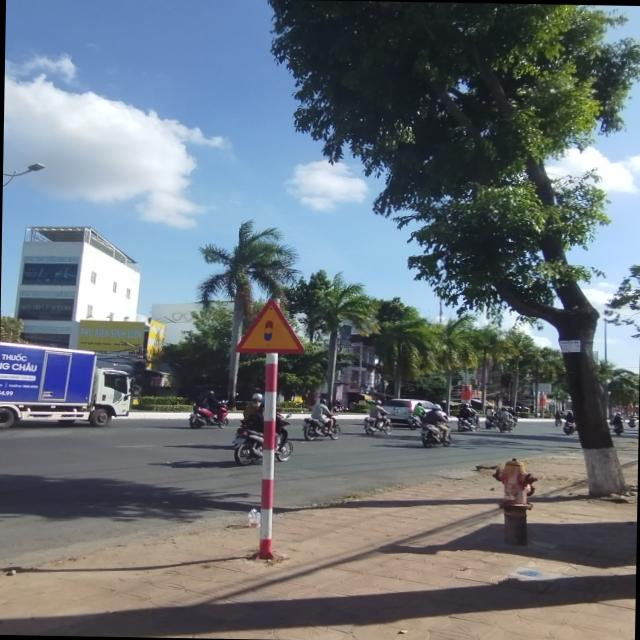Duong_Co_Go_Giam_Toc: (234, 297, 306, 354)
